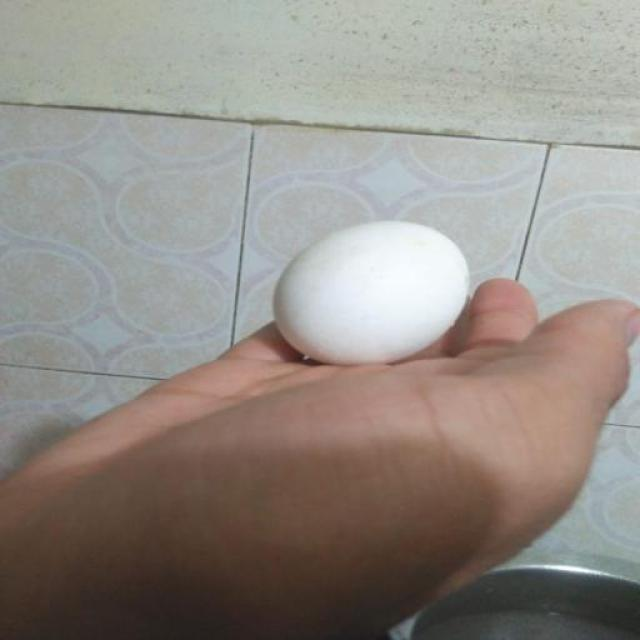telur: (272, 219, 472, 367)
